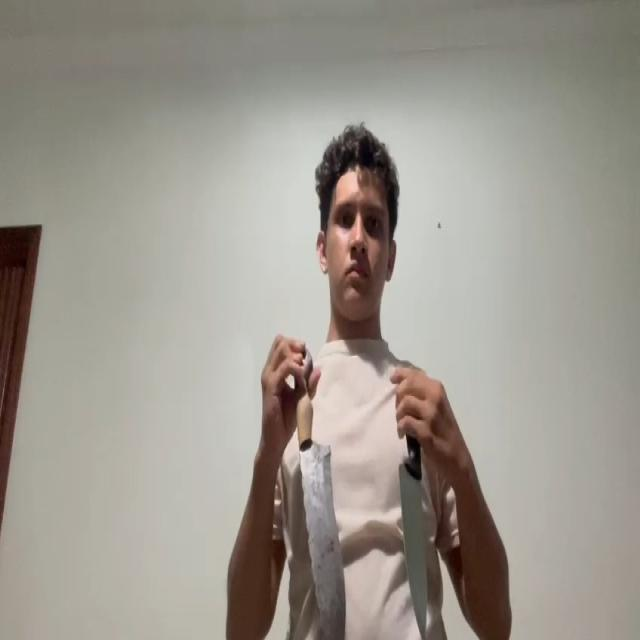knife: (300, 437, 346, 640)
